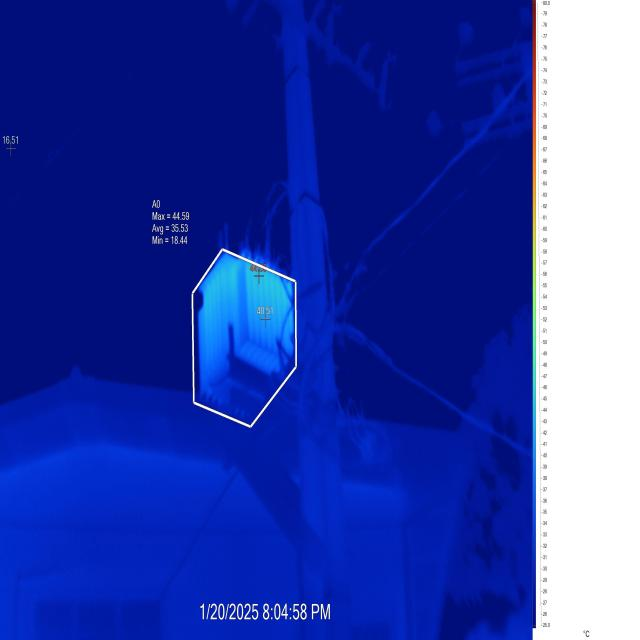Transformer: (163, 5, 532, 476)
